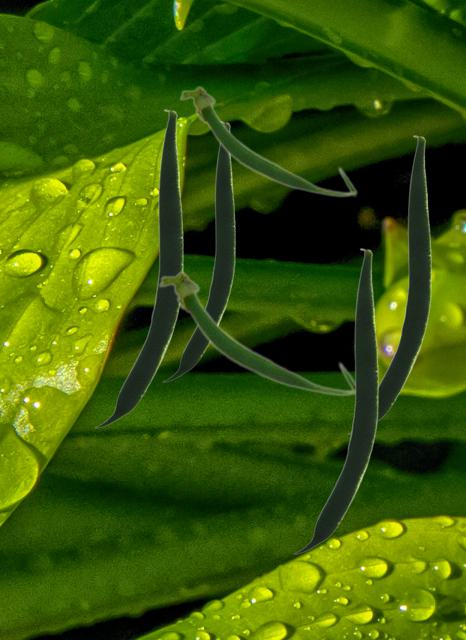french_bean: (94, 109, 182, 427), (293, 248, 377, 553), (157, 269, 354, 396), (347, 135, 430, 433), (178, 84, 357, 197), (162, 121, 234, 381)
